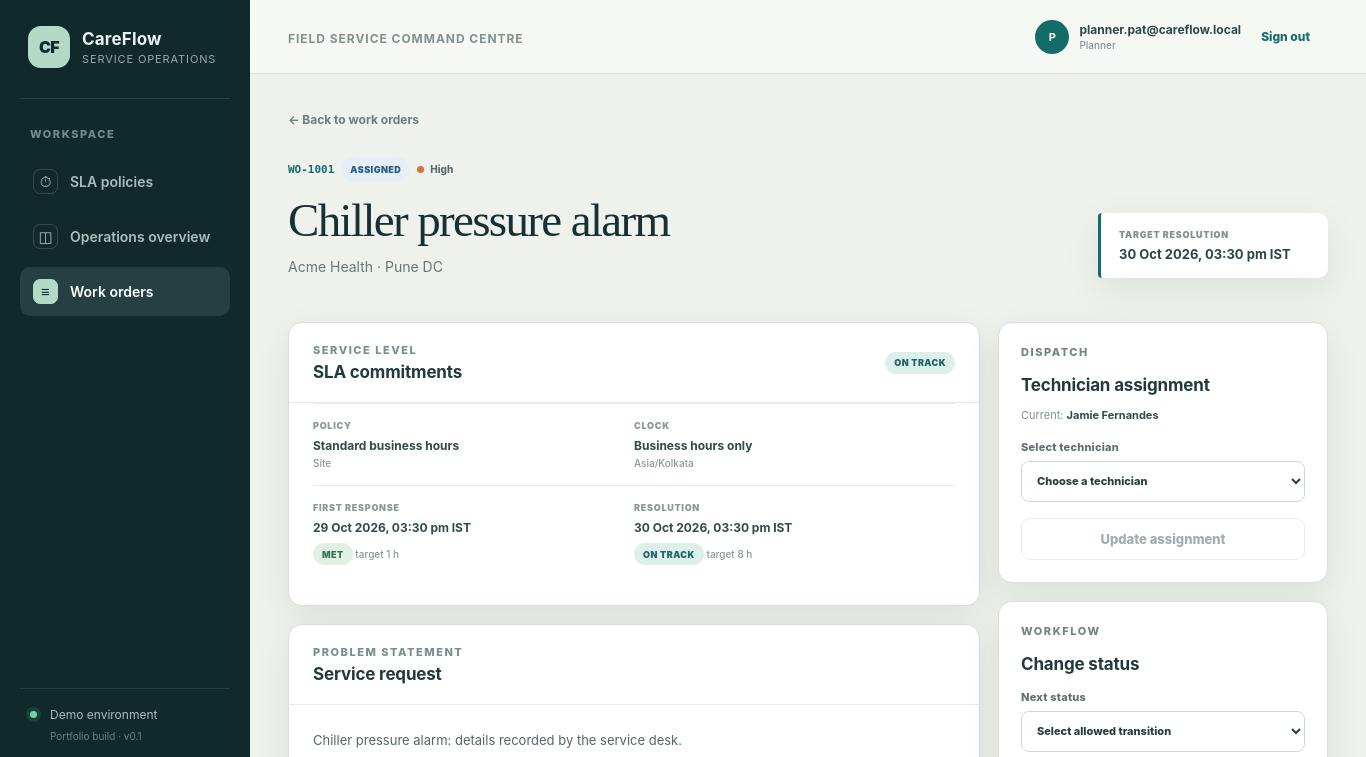
Test: Work order detail (MSW) › assignment › reassigns a technician and refreshes the page
Expected: the heading "Chiller pressure alarm" is shown, [288,195,670,246]
Expected: the text "Jamie Fernandes" is shown, [1067,408,1159,422]
Select "Ananya Rao · Electrical" in the dropdown labelled "Select technician" at [1163, 481], box [1021,461,1305,502]
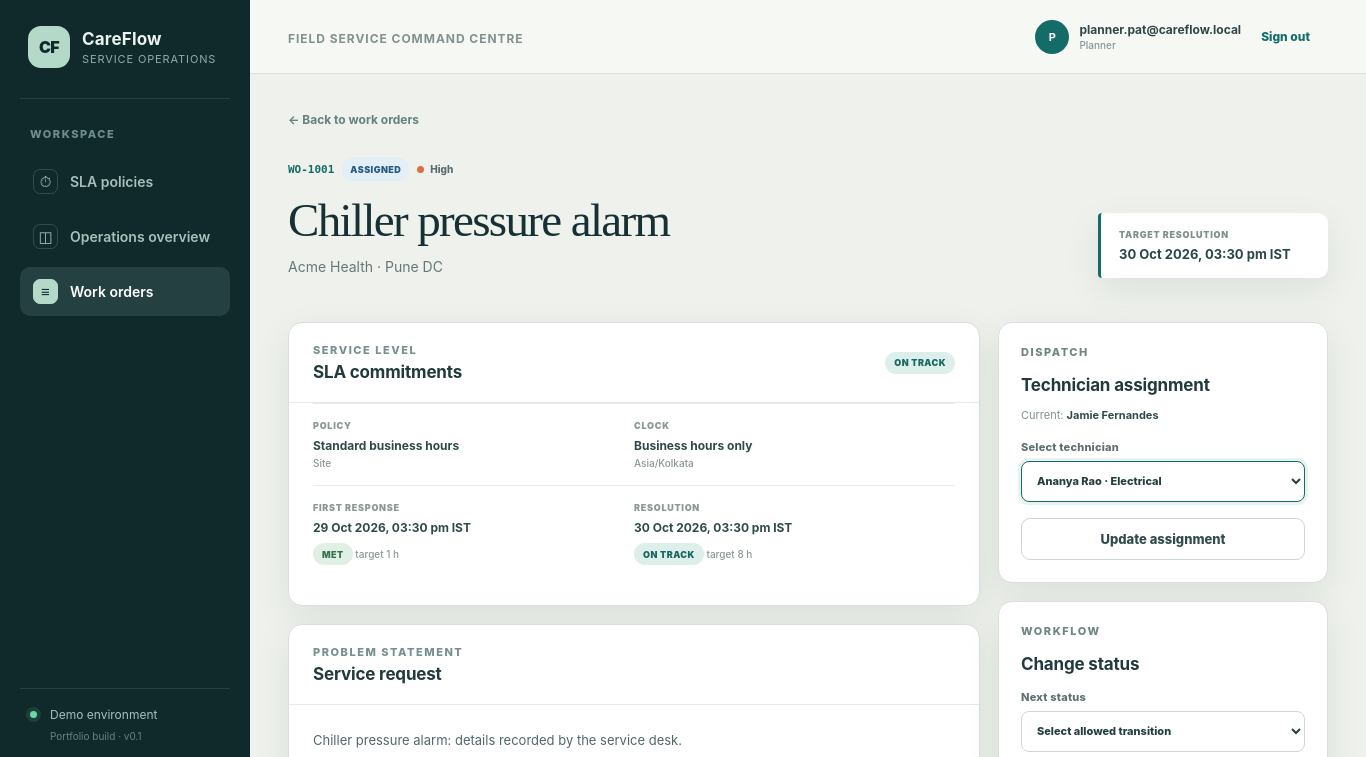
Click the button "Update assignment" at [1163, 539], box [1021,518,1305,560]
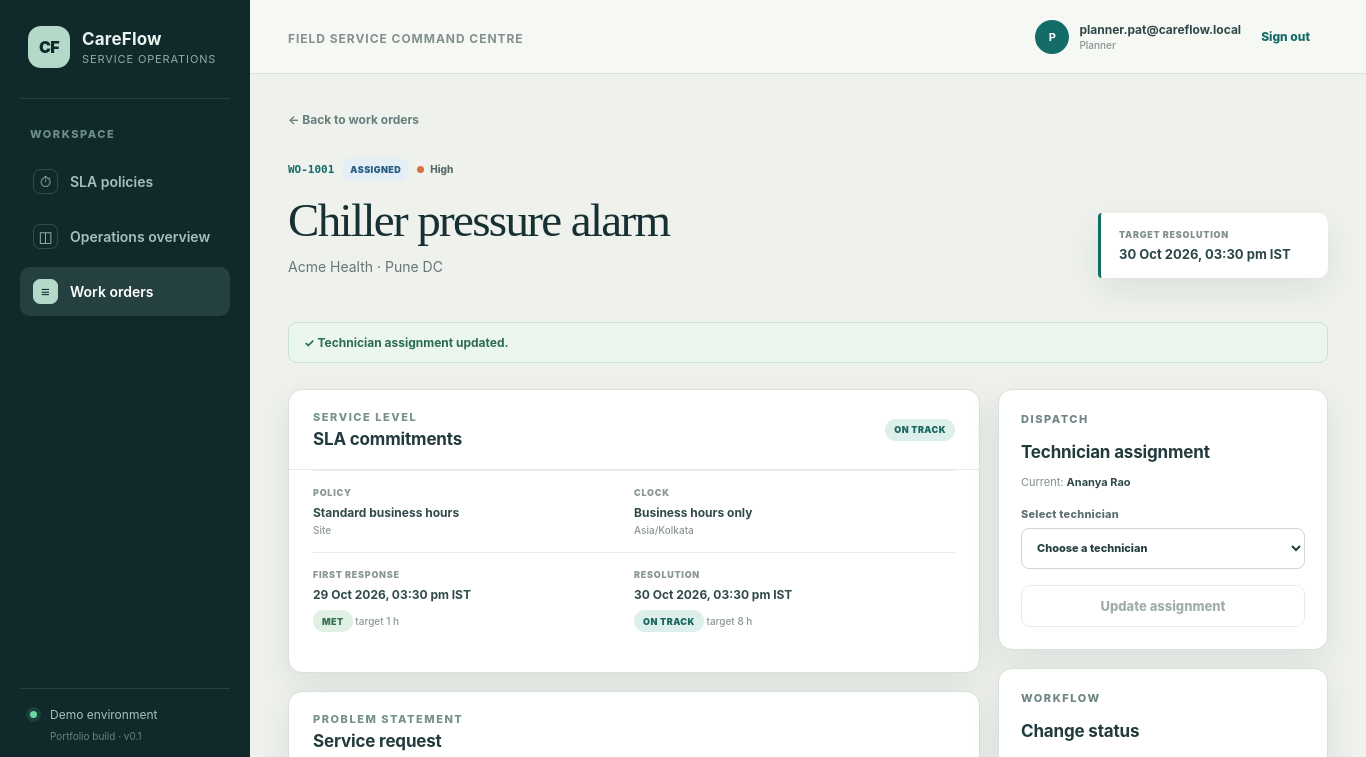
Expected: the text "✓ Technician assignment updated." is shown, [288,322,1328,363]
Expected: the text "Ananya Rao" is shown, [1067,475,1130,489]
